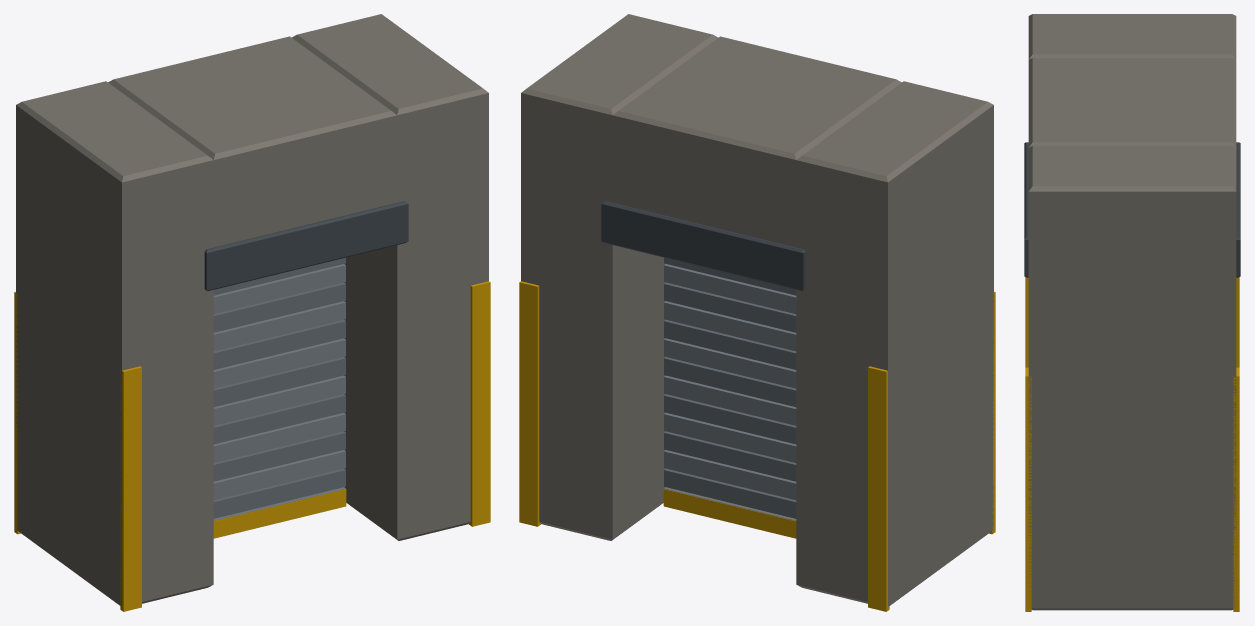
Rendered from door.fbx.
3 views of the same model, side by side, from view 1: azimuth 30°, elevation 25°; view 2: azimuth 150°, elevation 25°; view 3: azimuth 270°, elevation 25° (orthographic).
Visible parts, largest first — view 1: door, Door; view 2: door, Door; view 3: door.
Boxes of the visible parts, x1,y1,x2,y2 form: door: (14, 14, 490, 611); Door: (213, 257, 346, 538); door: (519, 14, 995, 611); Door: (663, 257, 796, 538); door: (1024, 14, 1240, 611).
Bounding box in the file's own units: 4 × 4.5 × 2.08.
